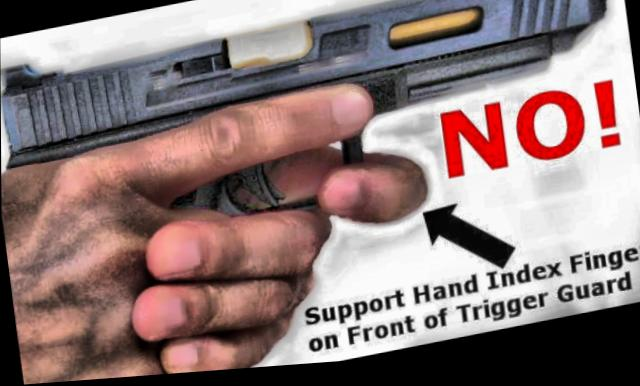pistol: (0, 0, 635, 292)
